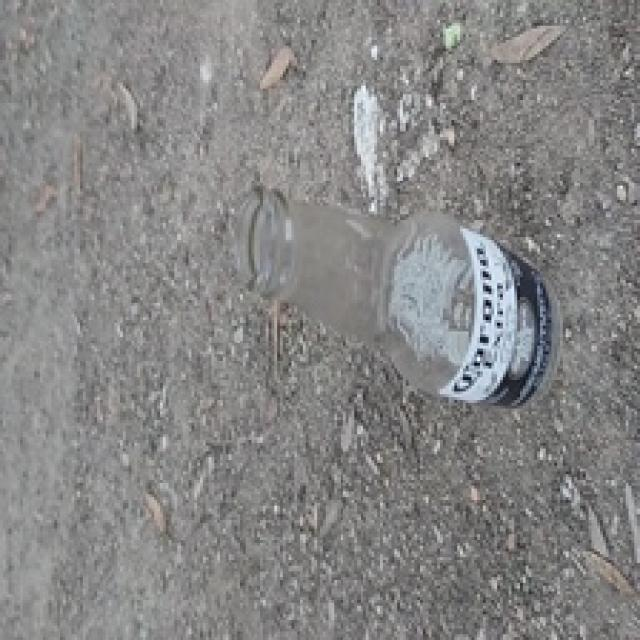garbage: (177, 178, 592, 424)
